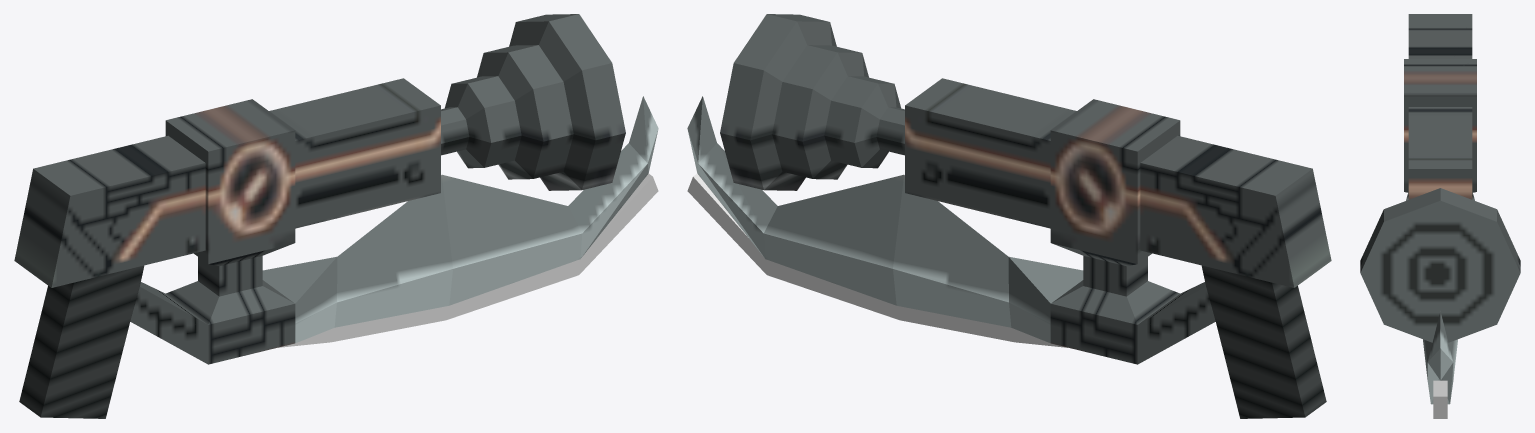
Rendered from Gun.fbx.
3 views of the same model, side by side, from view 1: azimuth 30°, elevation 25°; view 2: azimuth 150°, elevation 25°; view 3: azimuth 270°, elevation 25° (orthographic). The views are drawn at different scales.
Visible parts, largest first — view 1: GUN, Chain; view 2: GUN, Chain; view 3: GUN, Chain.
Boxes of the visible parts, <box> form: GUN: <box>14,14,658,418</box>; Chain: <box>278,173,658,347</box>; GUN: <box>687,14,1331,418</box>; Chain: <box>687,173,1067,347</box>; GUN: <box>1360,14,1520,404</box>; Chain: <box>1433,380,1447,418</box>.
Size of the model in its own units: 140 by 59.27 by 36.
